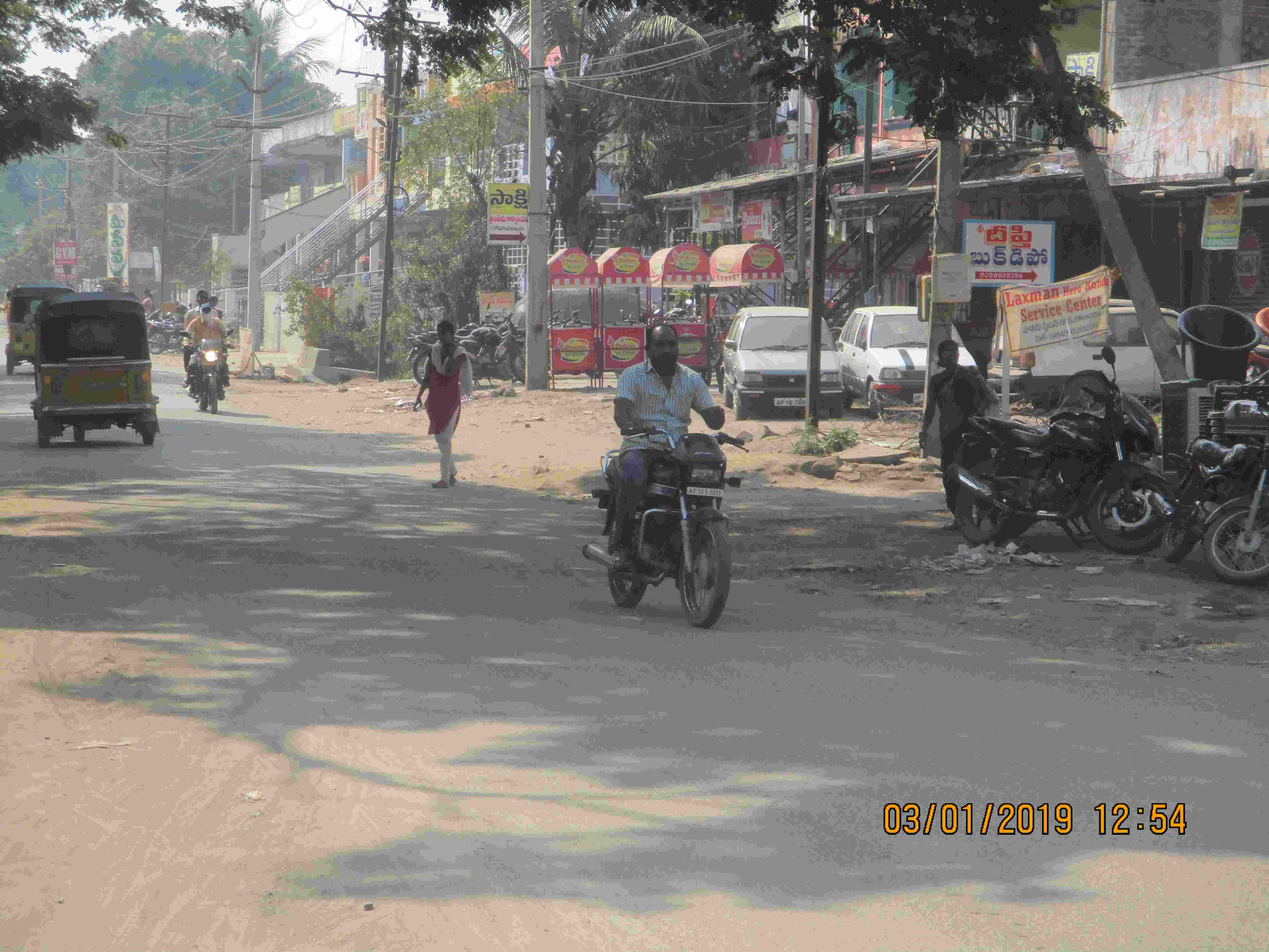plate: (679, 480, 731, 509)
